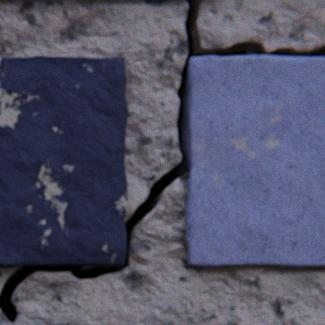brick: (184, 57, 324, 267), (0, 57, 126, 267)
crack: (0, 0, 324, 323)
